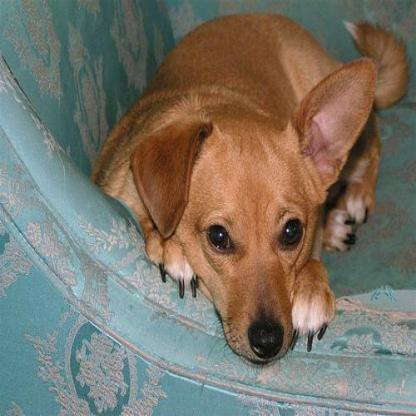basenji: (90, 5, 411, 364)
